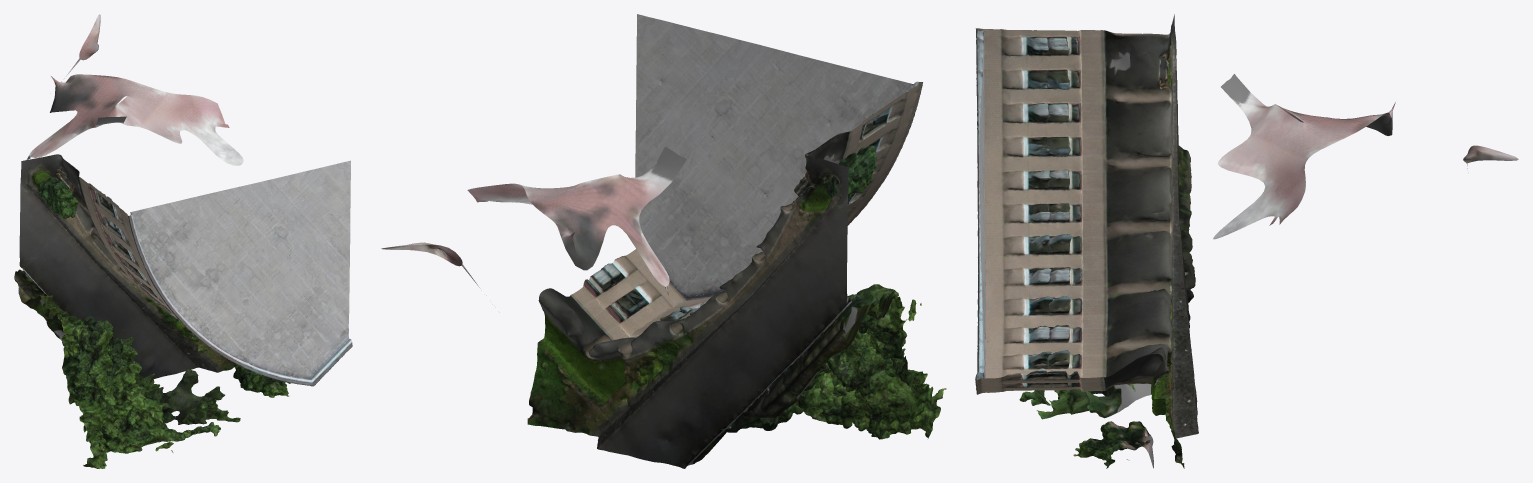
File: Tile_+003_+023.fbx
3 views of the same model, side by side, from view 1: azimuth 30°, elevation 25°; view 2: azimuth 150°, elevation 25°; view 3: azimuth 270°, elevation 25° (orthographic). The views are drawn at different scales.
Parts seen in each view (by area): view 1: DefaultName; view 2: DefaultName; view 3: DefaultName.
Boxes of the visible parts, <box> form: DefaultName: <box>14,14,352,468</box>; DefaultName: <box>381,14,946,468</box>; DefaultName: <box>975,14,1518,468</box>.
Bounding box in the file's own units: 22.54 × 22.54 × 35.8.
